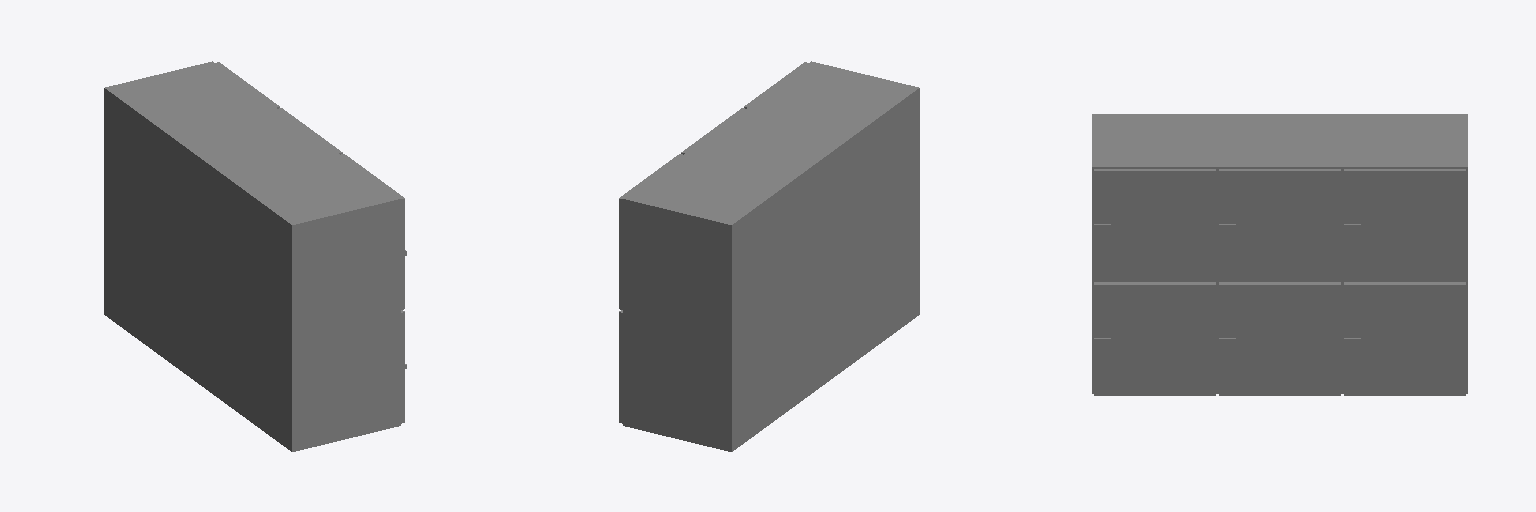
The model's file is Locker.obj.
3 views of the same model, side by side, from view 1: azimuth 30°, elevation 25°; view 2: azimuth 150°, elevation 25°; view 3: azimuth 270°, elevation 25° (orthographic).
Visible parts, largest first — view 1: ???; view 2: ???; view 3: ???.
Part boxes in pixels (left/top/right/bottom): ???: left=104, top=61, right=406, bottom=451; ???: left=619, top=61, right=919, bottom=451; ???: left=1092, top=114, right=1467, bottom=395.
Size of the model in its own units: 0.643 by 1.21 by 1.81.